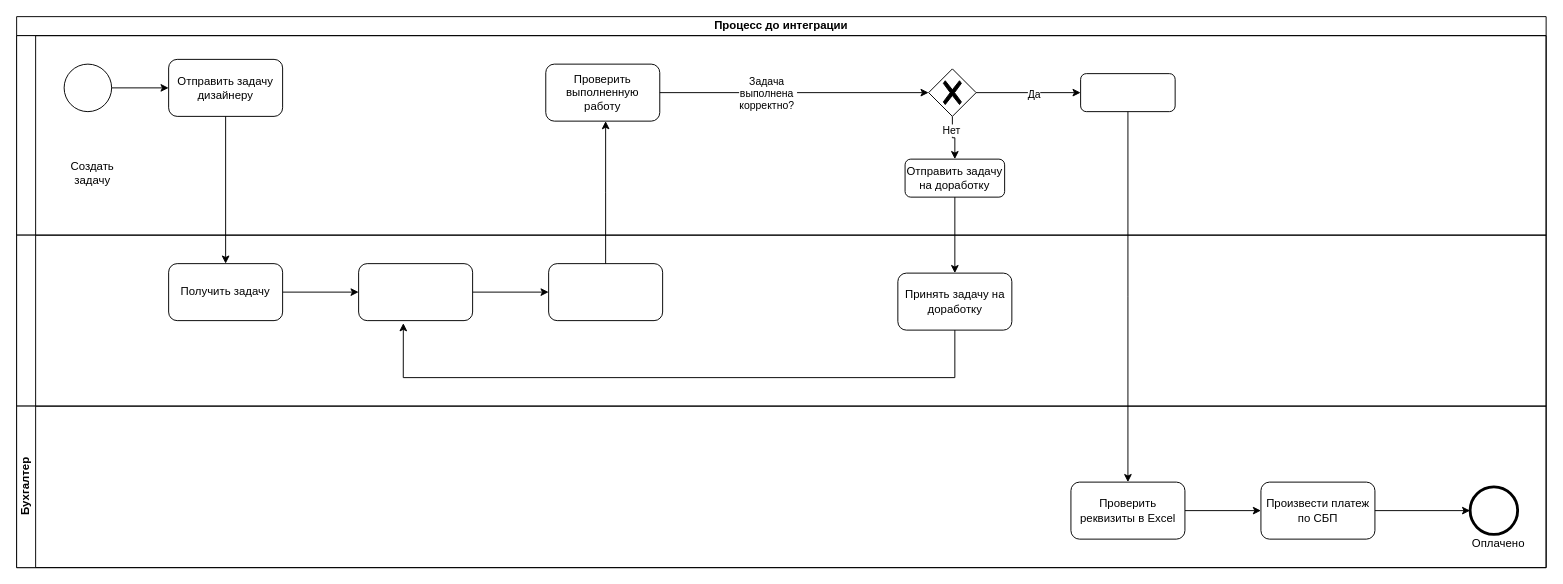
Image size: 1563x584. Some labels were removed from this diagram. The box of each missing label's shape, as (x1, y1, x2, y2) in pixels:
Выполнить задачу: (358, 263, 473, 321)
Дизайнер: (16, 234, 1546, 406)
Менеджер: (16, 35, 1546, 235)
Отправить итоговую работу через мессенджер: (548, 263, 663, 321)
Принять задачу: (1080, 73, 1175, 112)
